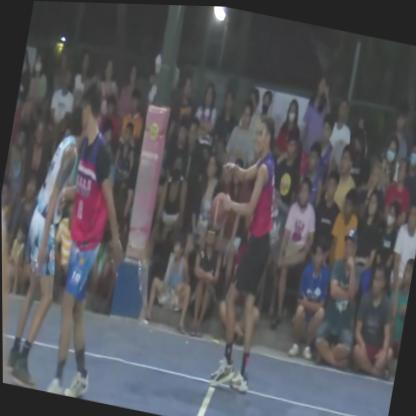basketball: (206, 185, 231, 233)
